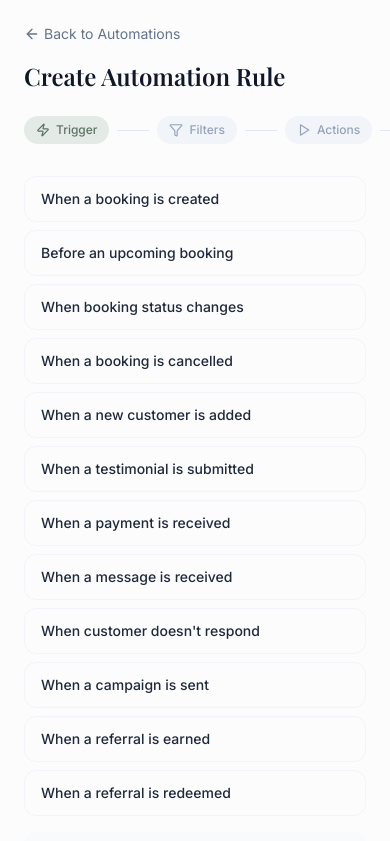
Test case: NewAutomationPage › shows filter preview for BOOKING_UPCOMING with hoursBefore
Click the button "Before an upcoming booking" at (195, 253), box left=24, top=230, right=366, bottom=276
(page scrolled)
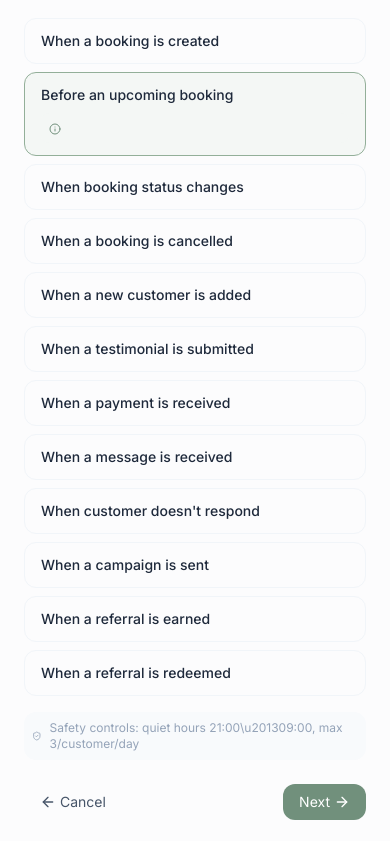
Click the button "Next" at (325, 802), box left=283, top=784, right=366, bottom=820
(page scrolled)
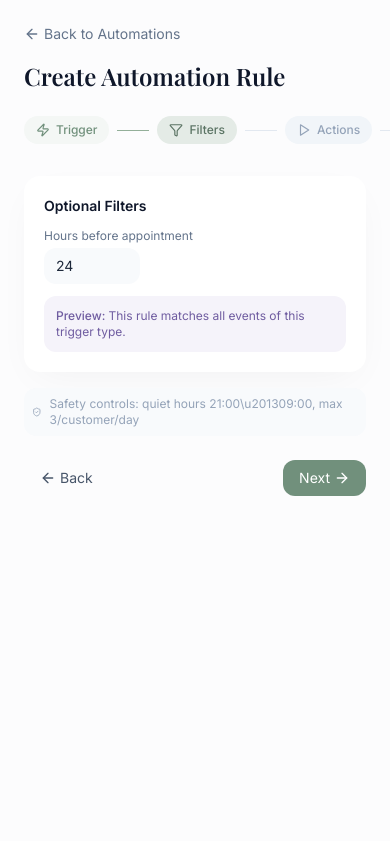
Expected: the text "Preview: This rule matches all events of this trigger type." is shown, left=44, top=296, right=346, bottom=352
